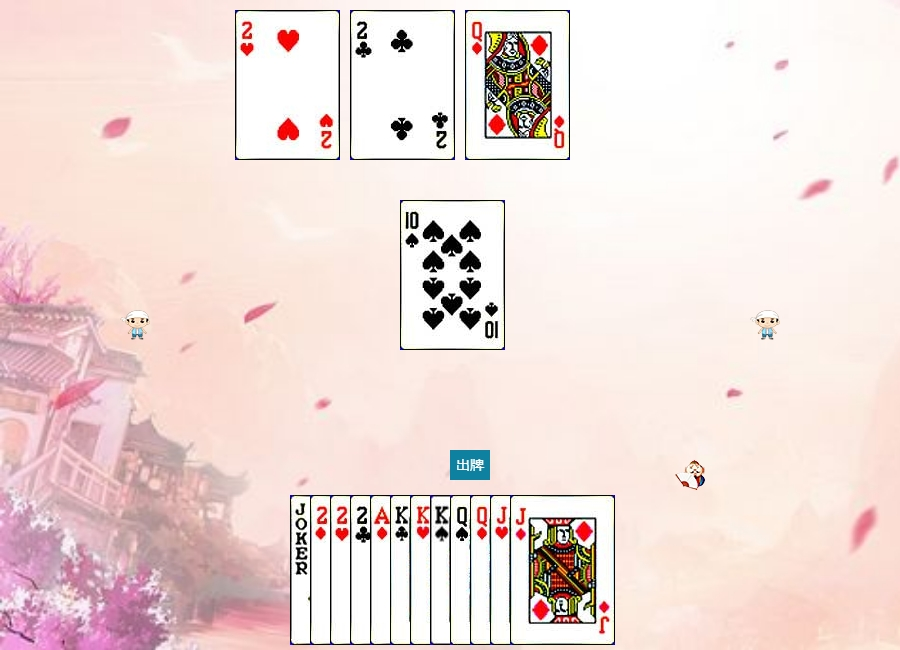10~4: (400, 200, 505, 350)
11~1: (510, 495, 615, 645)
11~3: (490, 495, 595, 645)
12~1: (465, 10, 570, 160), (470, 495, 575, 645)
12~4: (450, 495, 555, 645)
13~2: (390, 495, 495, 645)
13~3: (410, 495, 515, 645)
13~4: (430, 495, 535, 645)
14~1: (370, 495, 475, 645)
15~1: (310, 495, 415, 645)
15~2: (350, 10, 455, 160), (350, 495, 455, 645)
15~3: (235, 10, 340, 160), (330, 495, 435, 645)
17~3: (290, 495, 395, 645)
